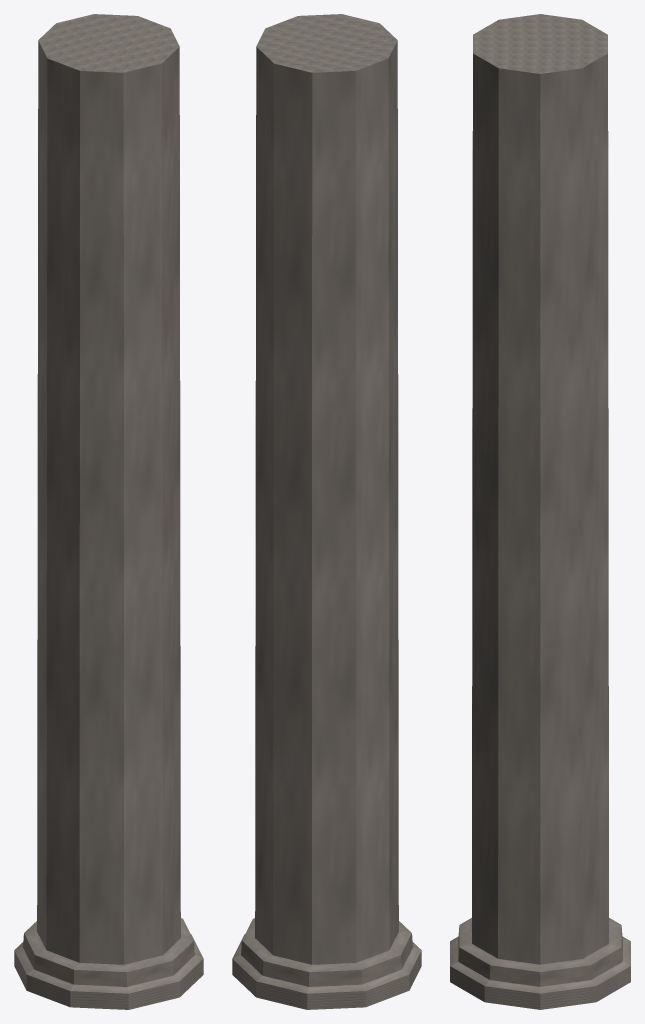
File: Pillar.fbx
3 renders of one model, left to right at view 1: azimuth 30°, elevation 25°; view 2: azimuth 150°, elevation 25°; view 3: azimuth 270°, elevation 25°, orthographic.
Parts seen in each view (by area): view 1: Pillar; view 2: Pillar; view 3: Pillar.
Part boxes in pixels (x1,y1,x2,y2): Pillar: [14, 14, 203, 1009]; Pillar: [232, 14, 421, 1009]; Pillar: [450, 14, 630, 1009].
Size of the model in its own units: 3.59 by 19.28 by 3.41.
